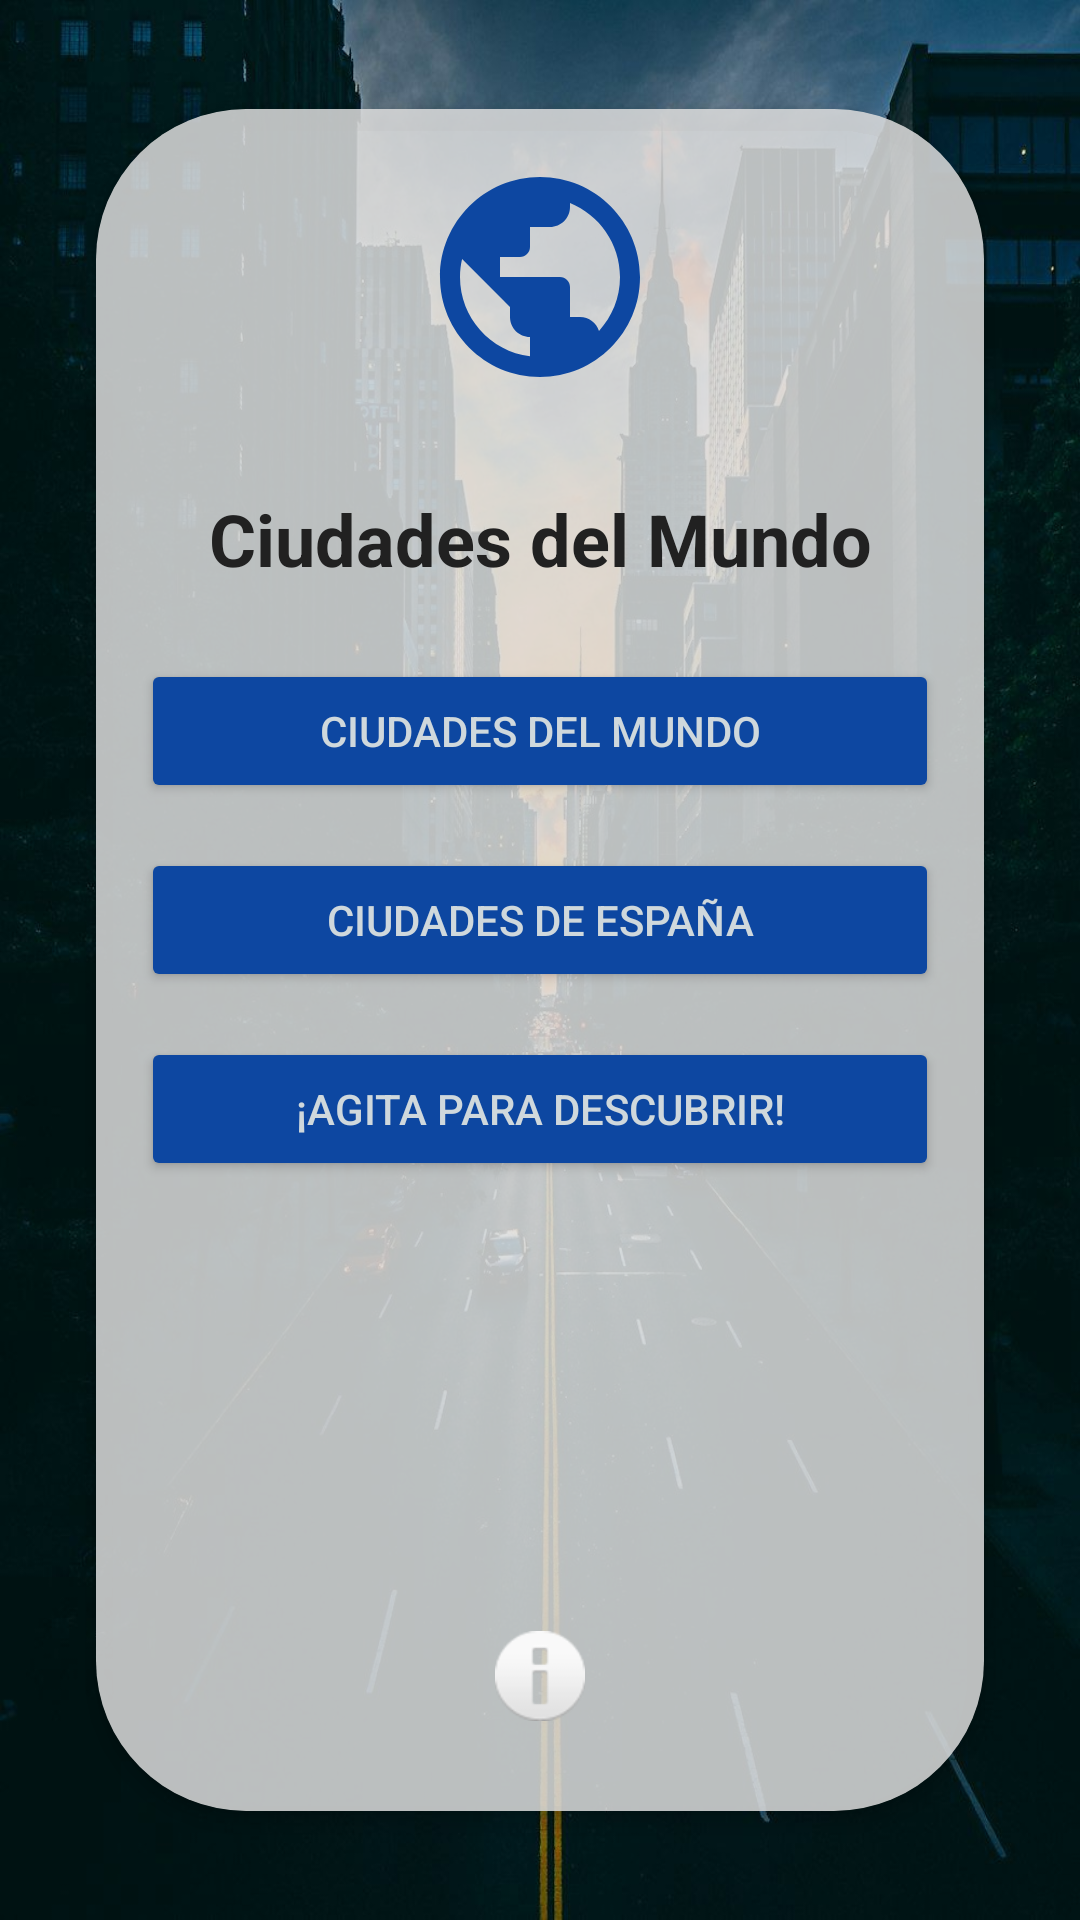

Screen size 1080w x 1920h. Icon name, then its box in pixels as (x1, y1, x2, y2):
Información adicional: (495, 1631, 585, 1721)
planet world: (420, 157, 660, 397)
